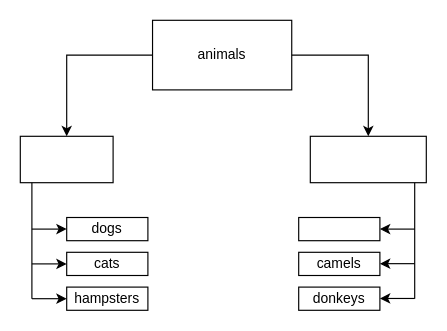
Image size: 447x331. Some labels were removed from this diagram. The centre of each missing label's shape, as x and y in pixels:
horses: the point at 339,228
packanimals: the point at 367,159
pets: the point at 66,159
